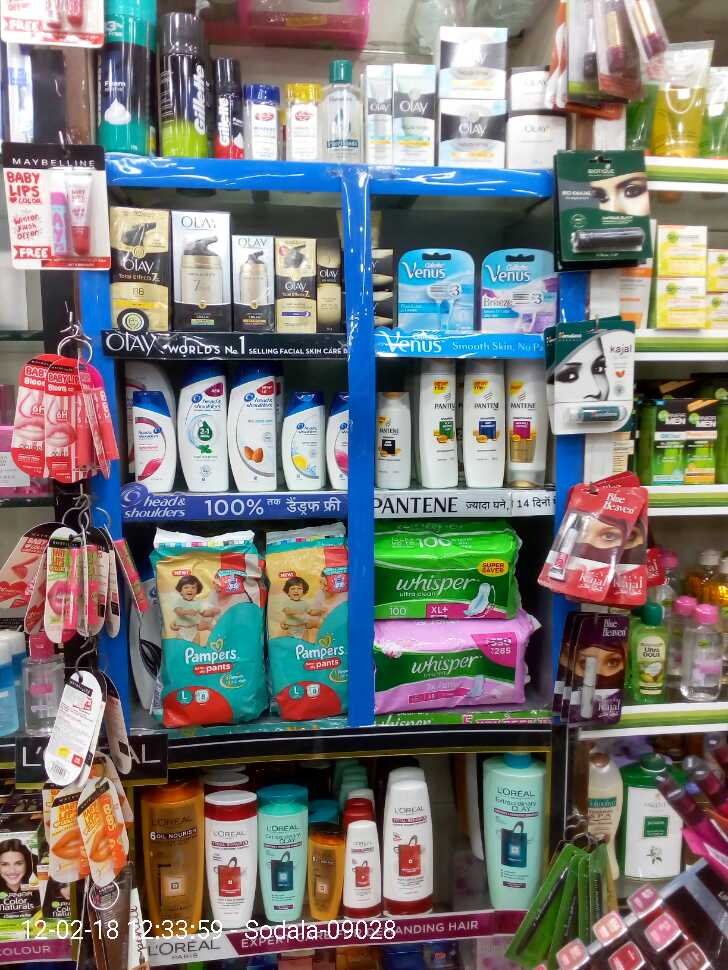gillete: (96, 1, 157, 155), (157, 14, 206, 157), (207, 55, 241, 157)
venus: (402, 247, 483, 332), (483, 248, 560, 332)
